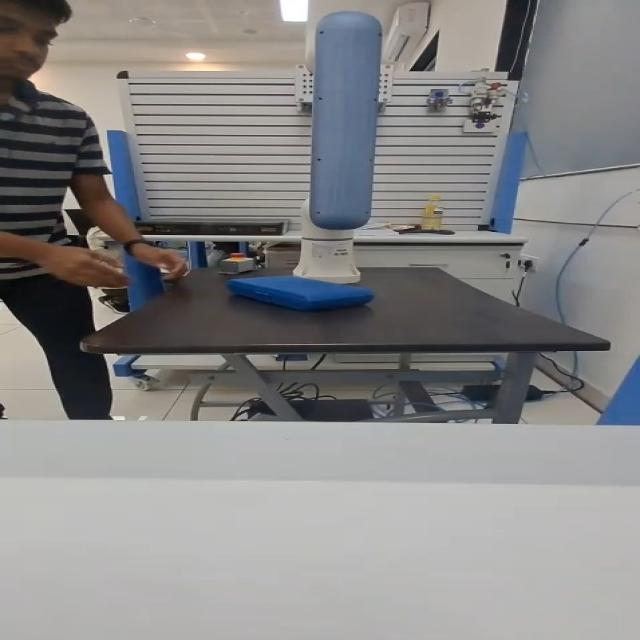top-surface: (245, 277, 359, 295)
